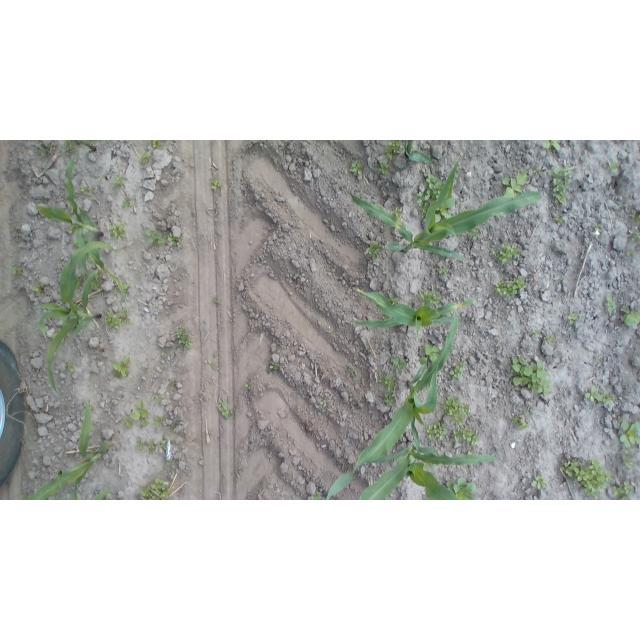Maize: (328, 311, 461, 500), (349, 155, 541, 263), (34, 153, 128, 312), (34, 242, 118, 399), (23, 400, 114, 500), (357, 441, 500, 500), (354, 289, 475, 336), (403, 140, 433, 164), (72, 140, 101, 152)
Weeds: (510, 358, 552, 397), (576, 458, 612, 500), (548, 163, 572, 205), (441, 395, 469, 425), (502, 170, 527, 201), (444, 477, 477, 500), (138, 477, 170, 500), (492, 276, 527, 297), (493, 242, 521, 265), (585, 387, 615, 407), (104, 308, 131, 330), (452, 427, 481, 446), (619, 421, 640, 447), (435, 199, 456, 224), (424, 173, 444, 199), (130, 401, 149, 428), (411, 192, 429, 218), (423, 421, 447, 440), (112, 356, 131, 379), (620, 306, 640, 327), (420, 344, 439, 365), (176, 327, 194, 349), (419, 290, 441, 308), (560, 460, 580, 479), (384, 140, 402, 161), (611, 481, 634, 497), (378, 373, 396, 393), (109, 220, 126, 240), (450, 362, 467, 381), (512, 412, 530, 428), (146, 230, 165, 245), (62, 140, 78, 156), (622, 454, 638, 470), (604, 294, 616, 315), (218, 399, 230, 420), (367, 243, 381, 260), (531, 475, 548, 489), (90, 271, 103, 289), (138, 149, 153, 164), (35, 143, 51, 157), (350, 160, 363, 176), (542, 141, 560, 152), (134, 437, 148, 451), (166, 232, 180, 246), (113, 175, 126, 190), (392, 358, 407, 371), (266, 362, 280, 375), (378, 162, 391, 175), (210, 177, 222, 190), (391, 206, 403, 219), (384, 394, 396, 407), (121, 195, 132, 209), (567, 310, 577, 325), (32, 283, 45, 294), (148, 440, 157, 455), (153, 417, 165, 428), (76, 272, 86, 285), (348, 363, 357, 377), (543, 334, 554, 345), (10, 265, 22, 275), (470, 227, 480, 239), (421, 461, 437, 468), (60, 333, 70, 344), (607, 162, 618, 172), (388, 294, 398, 305), (148, 140, 161, 148), (632, 232, 640, 245), (64, 363, 74, 373), (157, 440, 167, 450), (204, 358, 214, 368), (627, 248, 637, 258), (125, 418, 134, 429), (81, 185, 90, 195), (71, 239, 80, 249), (52, 328, 61, 338), (68, 224, 76, 235), (555, 216, 564, 225), (439, 266, 448, 275), (122, 282, 130, 292), (152, 396, 162, 404), (594, 356, 603, 364), (244, 382, 252, 391), (534, 168, 543, 175), (320, 397, 327, 406), (313, 491, 320, 500), (170, 378, 177, 387), (161, 350, 169, 357), (595, 223, 602, 231), (381, 314, 389, 321), (533, 329, 540, 337), (624, 450, 634, 455), (619, 496, 629, 501), (467, 448, 474, 455), (21, 493, 29, 499), (213, 297, 221, 303), (170, 423, 175, 431), (636, 214, 640, 224), (89, 449, 95, 455), (166, 462, 173, 467), (99, 175, 105, 180), (89, 406, 95, 411), (632, 209, 637, 215), (164, 434, 169, 439), (153, 304, 158, 308), (618, 418, 623, 422), (560, 276, 564, 280), (170, 440, 174, 444), (365, 475, 369, 479), (106, 141, 110, 144)
